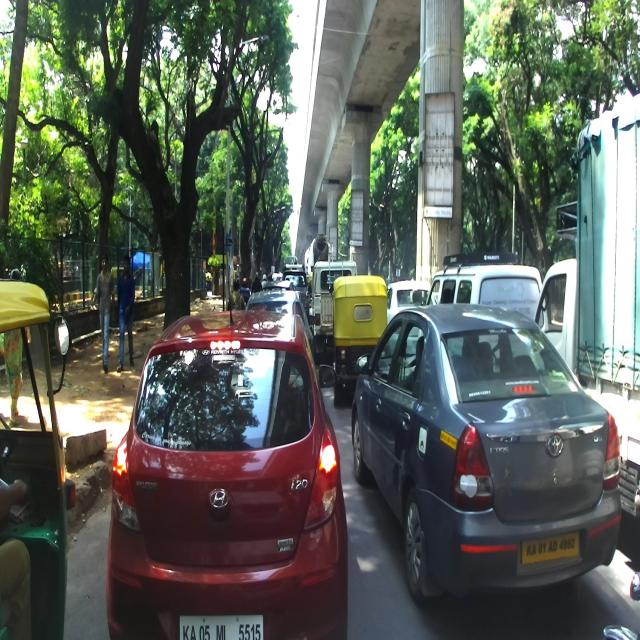autorickshaw: (0, 279, 75, 640), (328, 275, 388, 406)
car: (106, 289, 349, 639), (350, 303, 622, 610)
motorcycle: (602, 570, 640, 640)
